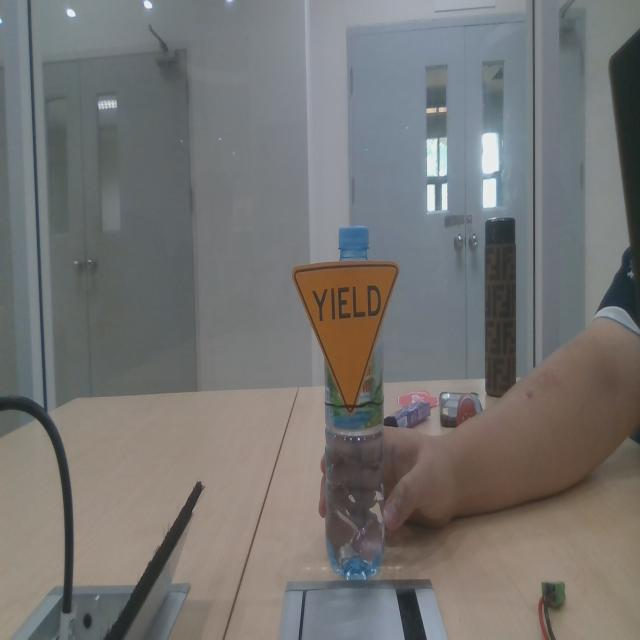Yield: (290, 253, 401, 413)
